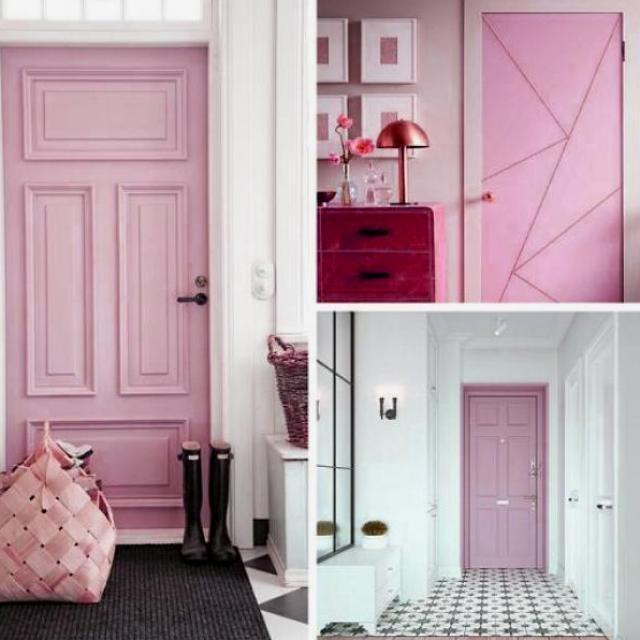door: (0, 43, 211, 529), (476, 11, 620, 303), (464, 389, 540, 569)
